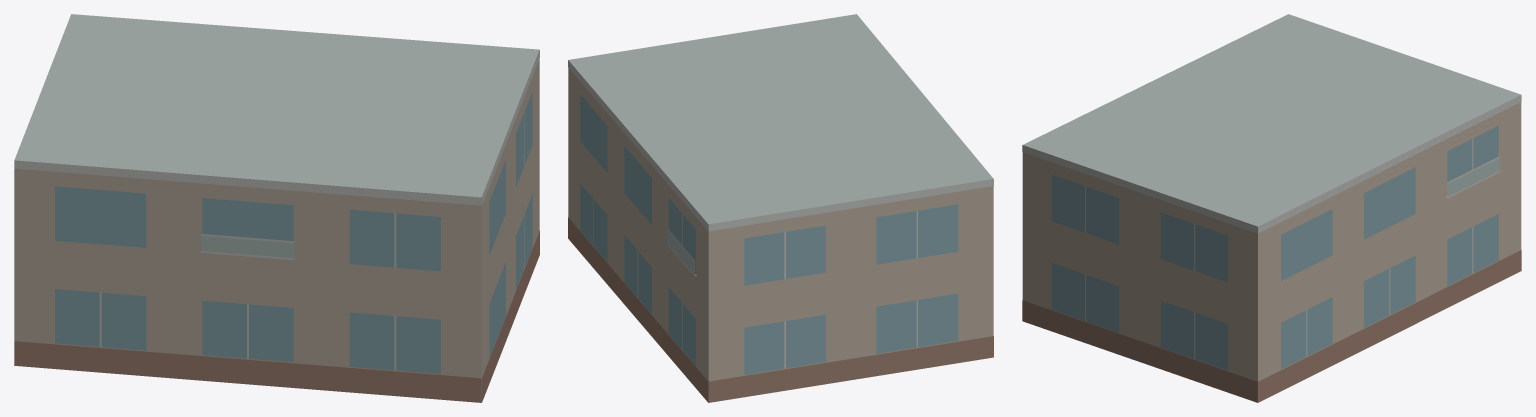
The model's file is survey-upis-32930820.glb.
3 views of the same model, side by side, from view 1: azimuth 30°, elevation 25°; view 2: azimuth 150°, elevation 25°; view 3: azimuth 270°, elevation 25° (orthographic). The views are drawn at different scales.
Parts seen in each view (by area): view 1: survey-upis-32930820.tmp; view 2: survey-upis-32930820.tmp; view 3: survey-upis-32930820.tmp.
Part boxes in pixels (x1,y1,x2,y2): survey-upis-32930820.tmp: (14,14,539,402); survey-upis-32930820.tmp: (568,14,993,402); survey-upis-32930820.tmp: (1022,14,1521,402).
Size of the model in its own units: 15.78 by 6.1 by 15.65.
